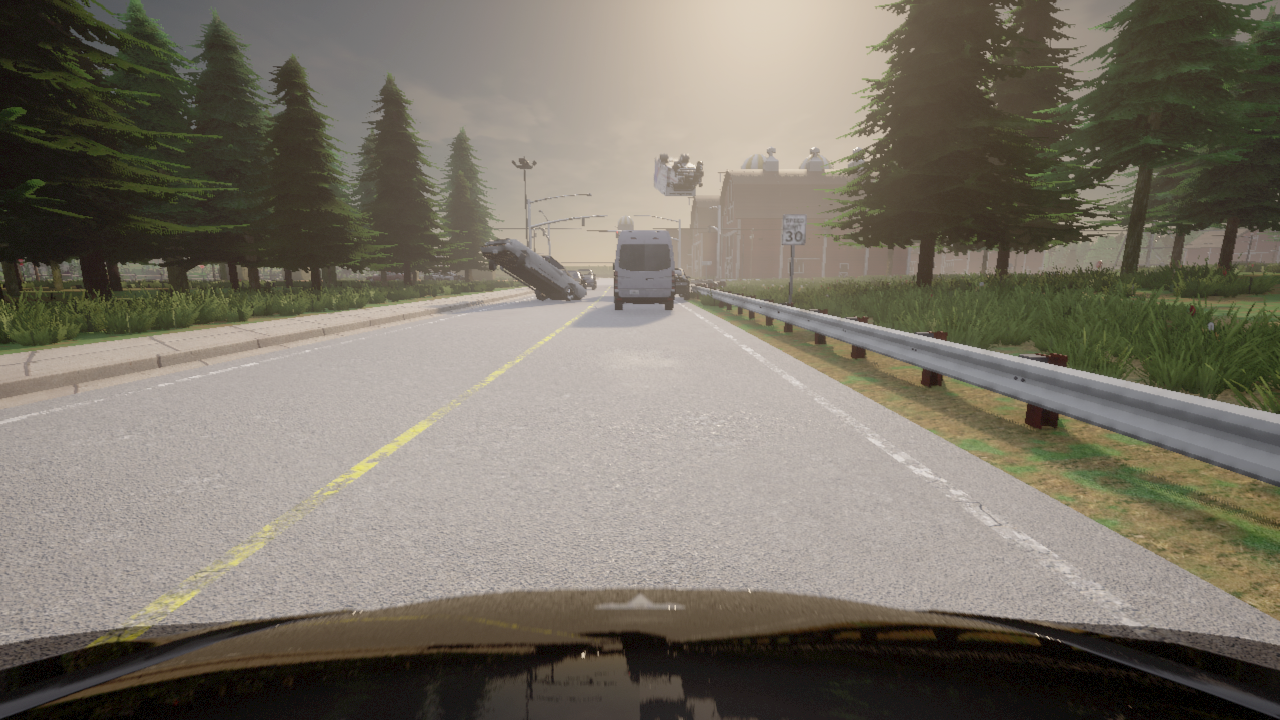cyclist: (0, 588, 1279, 719), (480, 239, 586, 300), (612, 230, 675, 310), (653, 154, 703, 196), (567, 270, 586, 295), (675, 268, 689, 300), (423, 271, 464, 281), (577, 269, 595, 289), (366, 272, 403, 281), (975, 271, 989, 274), (944, 271, 956, 274)
